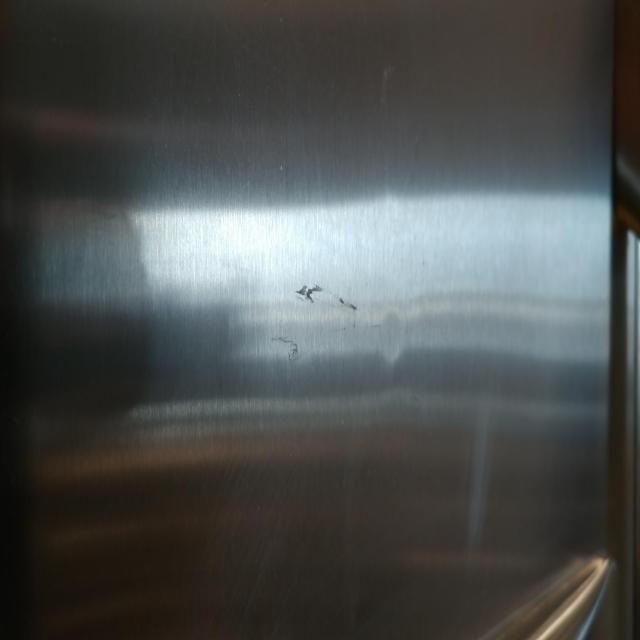dents: (363, 277, 432, 437)
